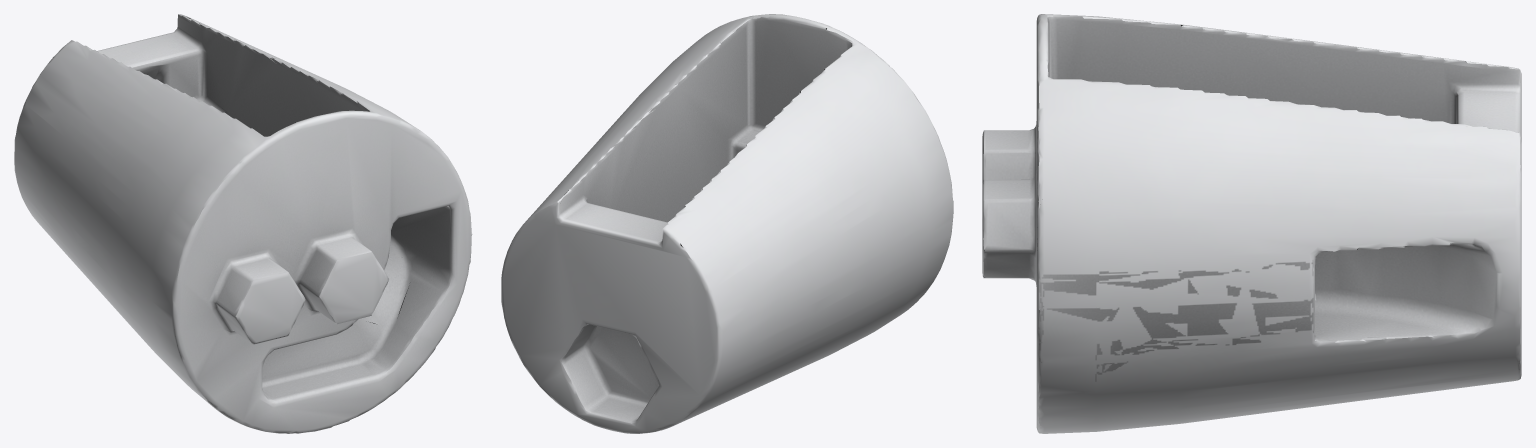
File: right_bisecp_lower.obj
The picture shows the model from 3 angles, left to right: view 1: azimuth 30°, elevation 25°; view 2: azimuth 150°, elevation 25°; view 3: azimuth 270°, elevation 25°; orthographic projection. The views are drawn at different scales.
Parts seen in each view (by area): view 1: right_bisecp_lower; view 2: right_bisecp_lower; view 3: right_bisecp_lower.
Boxes of the visible parts, bbox=[...] form: right_bisecp_lower: bbox=[14, 14, 472, 433]; right_bisecp_lower: bbox=[501, 14, 953, 433]; right_bisecp_lower: bbox=[982, 14, 1521, 433].
Size of the model in its own units: 0.0753 by 0.0753 by 0.0967.
1 material, 1 textured.
